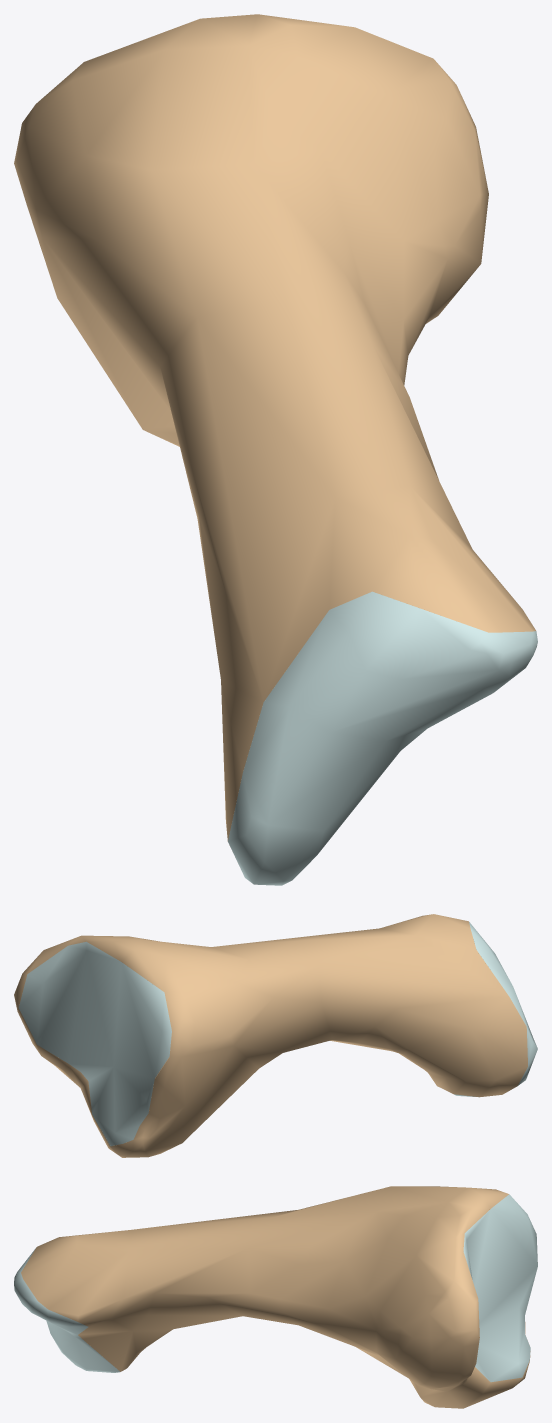
The model's file is Phalanx_proximal_4th_finger_foot_right.glb.
The picture shows the model from 3 angles, top to bottom: view 1: azimuth 30°, elevation 25°; view 2: azimuth 150°, elevation 25°; view 3: azimuth 270°, elevation 25°; orthographic projection. The views are drawn at different scales.
Visible parts, largest first — view 1: Proximal_phalanx_of_4th_finger_of_foot.r_Generated_Mesh_From; view 2: Proximal_phalanx_of_4th_finger_of_foot.r_Generated_Mesh_From; view 3: Proximal_phalanx_of_4th_finger_of_foot.r_Generated_Mesh_From.
Part boxes in pixels (bbox=[...]): Proximal_phalanx_of_4th_finger_of_foot.r_Generated_Mesh_From: bbox=[14, 14, 537, 885]; Proximal_phalanx_of_4th_finger_of_foot.r_Generated_Mesh_From: bbox=[14, 914, 537, 1157]; Proximal_phalanx_of_4th_finger_of_foot.r_Generated_Mesh_From: bbox=[14, 1186, 537, 1408].
Size of the model in its own units: 0.0181 by 0.0138 by 0.026.
